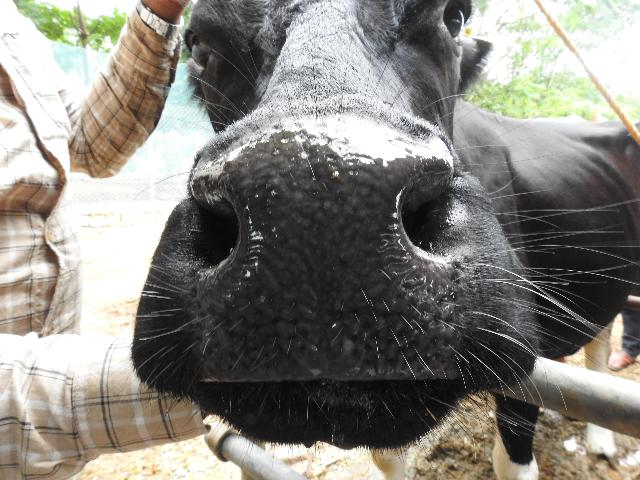Muzzle: (216, 153, 404, 373)
